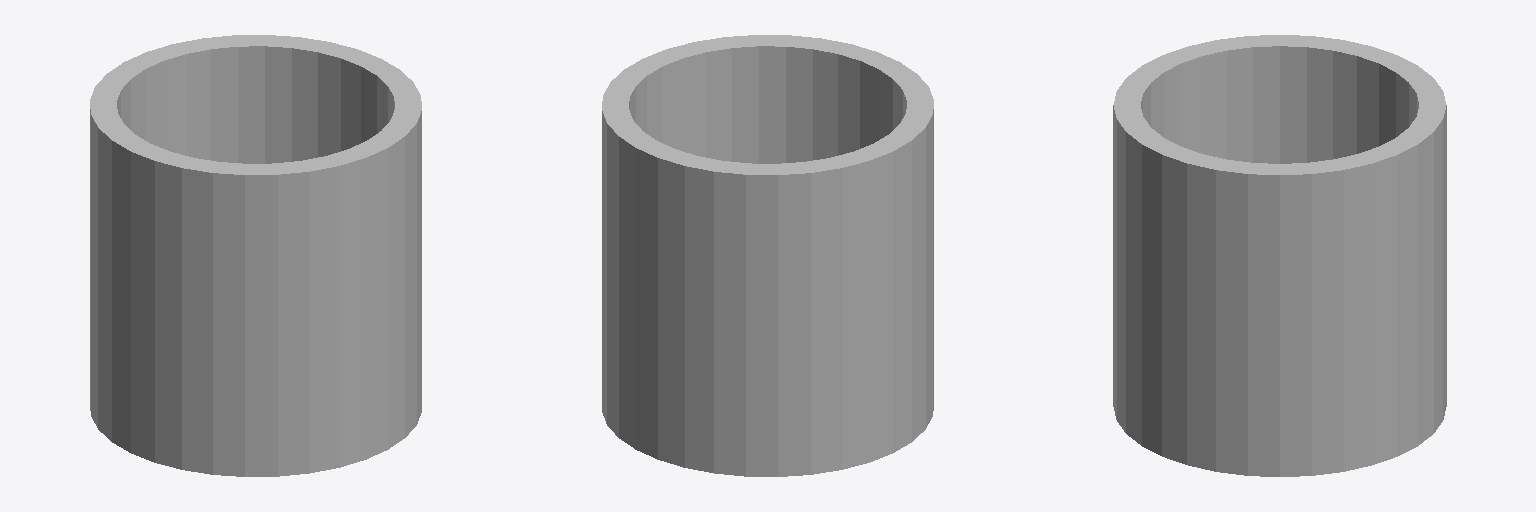
The model's file is Candle.obj.
The picture shows the model from 3 angles: view 1: azimuth 30°, elevation 25°; view 2: azimuth 150°, elevation 25°; view 3: azimuth 270°, elevation 25°; orthographic projection.
Visible parts, largest first — view 1: Candle.007_Cylinder.012; view 2: Candle.007_Cylinder.012; view 3: Candle.007_Cylinder.012.
Part boxes in pixels (bbox=[...]): Candle.007_Cylinder.012: bbox=[90, 35, 421, 476]; Candle.007_Cylinder.012: bbox=[602, 35, 933, 476]; Candle.007_Cylinder.012: bbox=[1113, 35, 1446, 476].
Size of the model in its own units: 6.74 by 6.74 by 6.74.